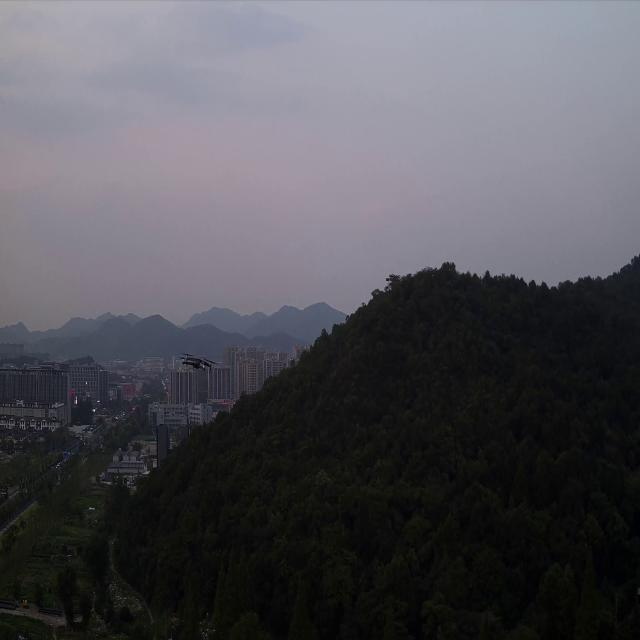UAV: (180, 351, 214, 373)
